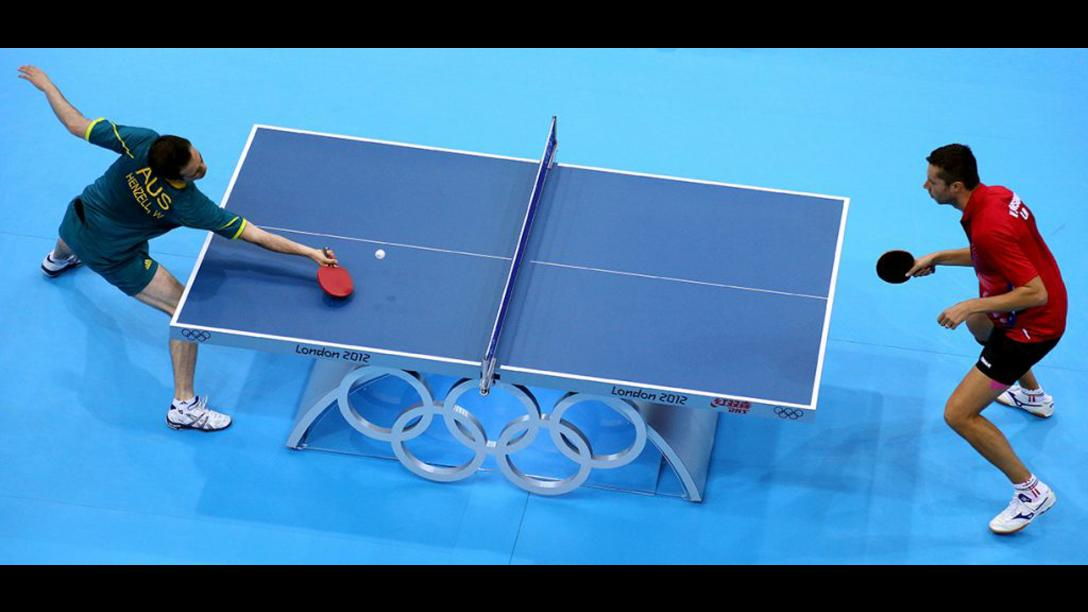Table-Tennis-Ball: (375, 247, 384, 258)
